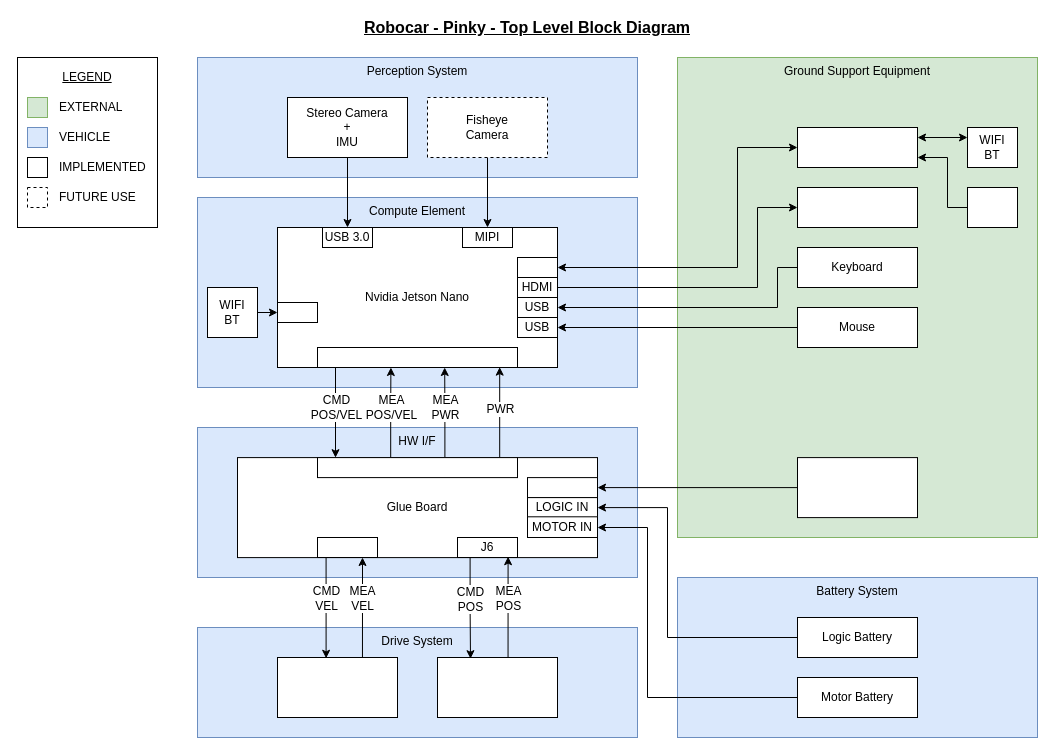
This 1055x755 diagram has some shape labels left out. The centre of each missing label's shape, as x and y in pixels:
"40-Pin Header" goes at point (417, 357).
"Drive Motor" goes at point (337, 687).
"E-Stop" goes at point (992, 207).
"ETH" goes at point (537, 267).
"GSE IN" goes at point (562, 487).
"J4" goes at point (417, 467).
"J5" goes at point (347, 547).
"M.2" goes at point (297, 312).
"Monitor" goes at point (857, 207).
"Operator Laptop" goes at point (857, 147).
"Power Supply" goes at point (857, 487).
"Steering Servo" goes at point (497, 687).
